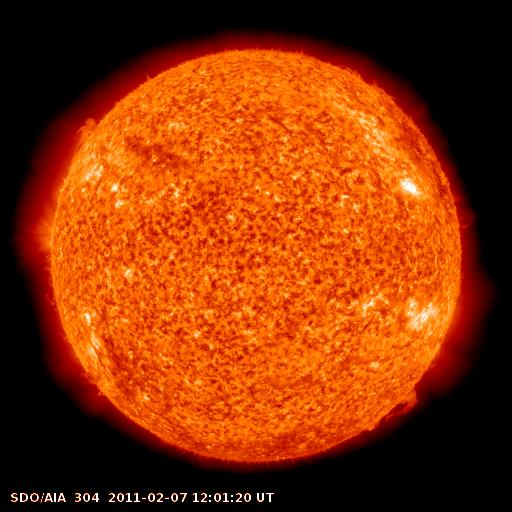prominence: (368, 375, 434, 433), (67, 100, 105, 156)
